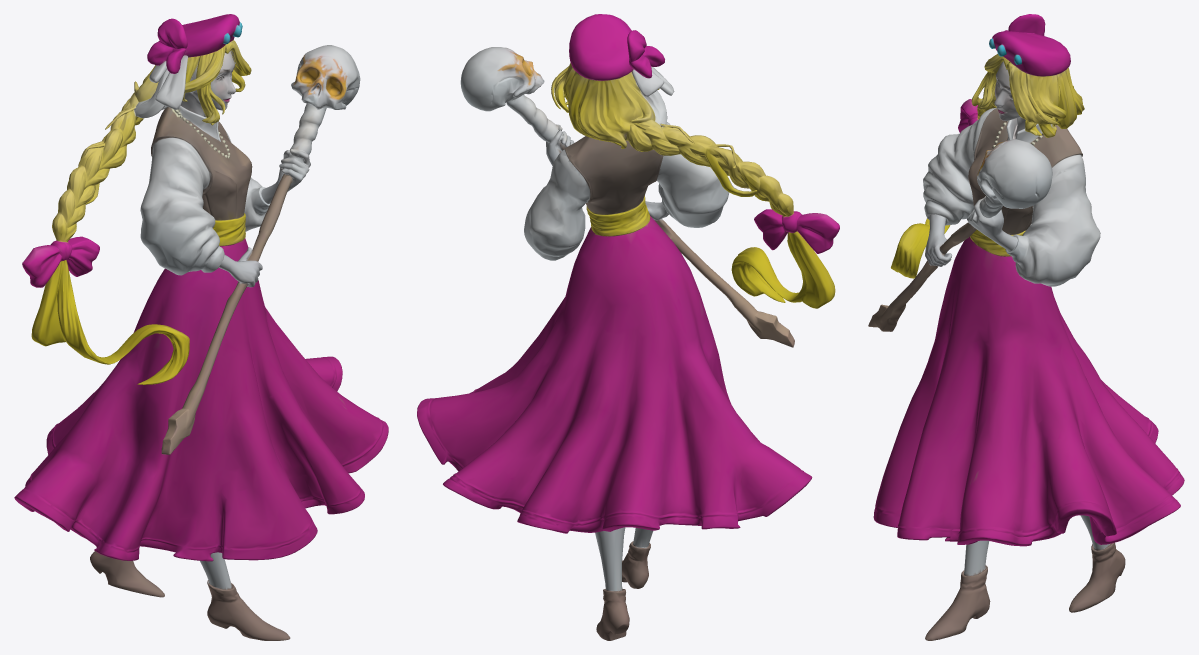
3 renders of one model, left to right at view 1: azimuth 30°, elevation 25°; view 2: azimuth 150°, elevation 25°; view 3: azimuth 270°, elevation 25°, orthographic. The views are drawn at different scales.
Parts seen in each view (by area): view 1: Meshy_AI_Crimson_Braid_Enchantress_20261120_texture001; view 2: Meshy_AI_Crimson_Braid_Enchantress_20261120_texture001; view 3: Meshy_AI_Crimson_Braid_Enchantress_20261120_texture001.
Boxes of the visible parts, x1=… form: Meshy_AI_Crimson_Braid_Enchantress_20261120_texture001: x1=14, y1=14, x2=388, y2=640; Meshy_AI_Crimson_Braid_Enchantress_20261120_texture001: x1=417, y1=14, x2=839, y2=640; Meshy_AI_Crimson_Braid_Enchantress_20261120_texture001: x1=868, y1=14, x2=1184, y2=640.
Size of the model in its own units: 0.1383 by 0.2129 by 0.1024.
